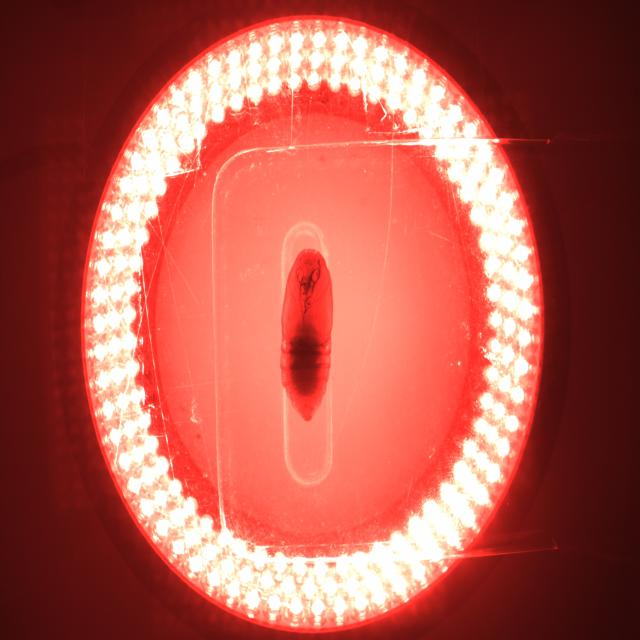female: (303, 401, 310, 410)
